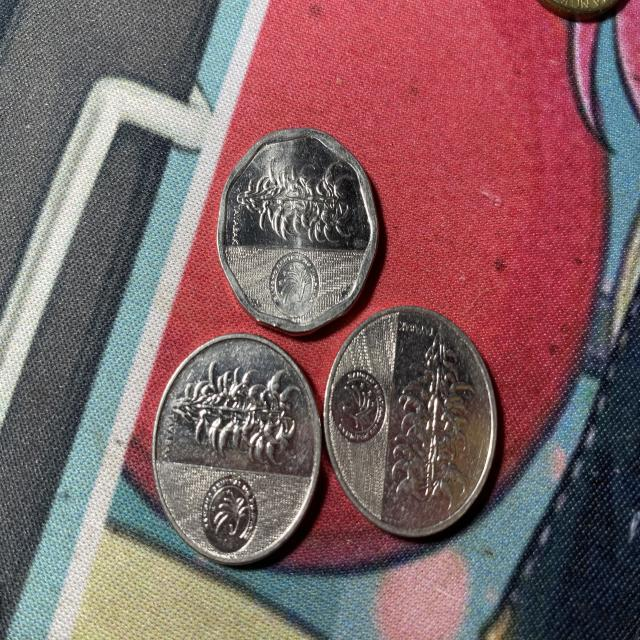5_New_Back: (388, 328, 470, 514), (176, 358, 295, 466), (239, 160, 355, 248)
